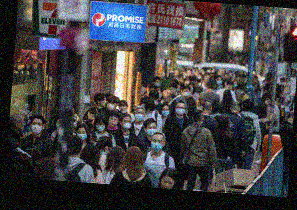mask_weared_incorrect: (118, 105, 128, 113)
with_mask: (151, 138, 164, 153), (30, 121, 43, 135), (76, 130, 89, 142), (121, 118, 133, 131), (146, 125, 158, 138), (134, 109, 145, 122), (175, 105, 186, 117), (106, 101, 117, 111), (95, 122, 106, 132), (161, 107, 171, 117), (182, 89, 191, 98), (168, 88, 177, 96), (215, 78, 223, 86), (264, 98, 272, 106), (154, 79, 161, 88), (56, 119, 62, 128), (233, 82, 239, 88)
without_mask: (161, 175, 175, 189), (109, 116, 120, 127), (18, 119, 25, 131), (100, 97, 108, 107)
